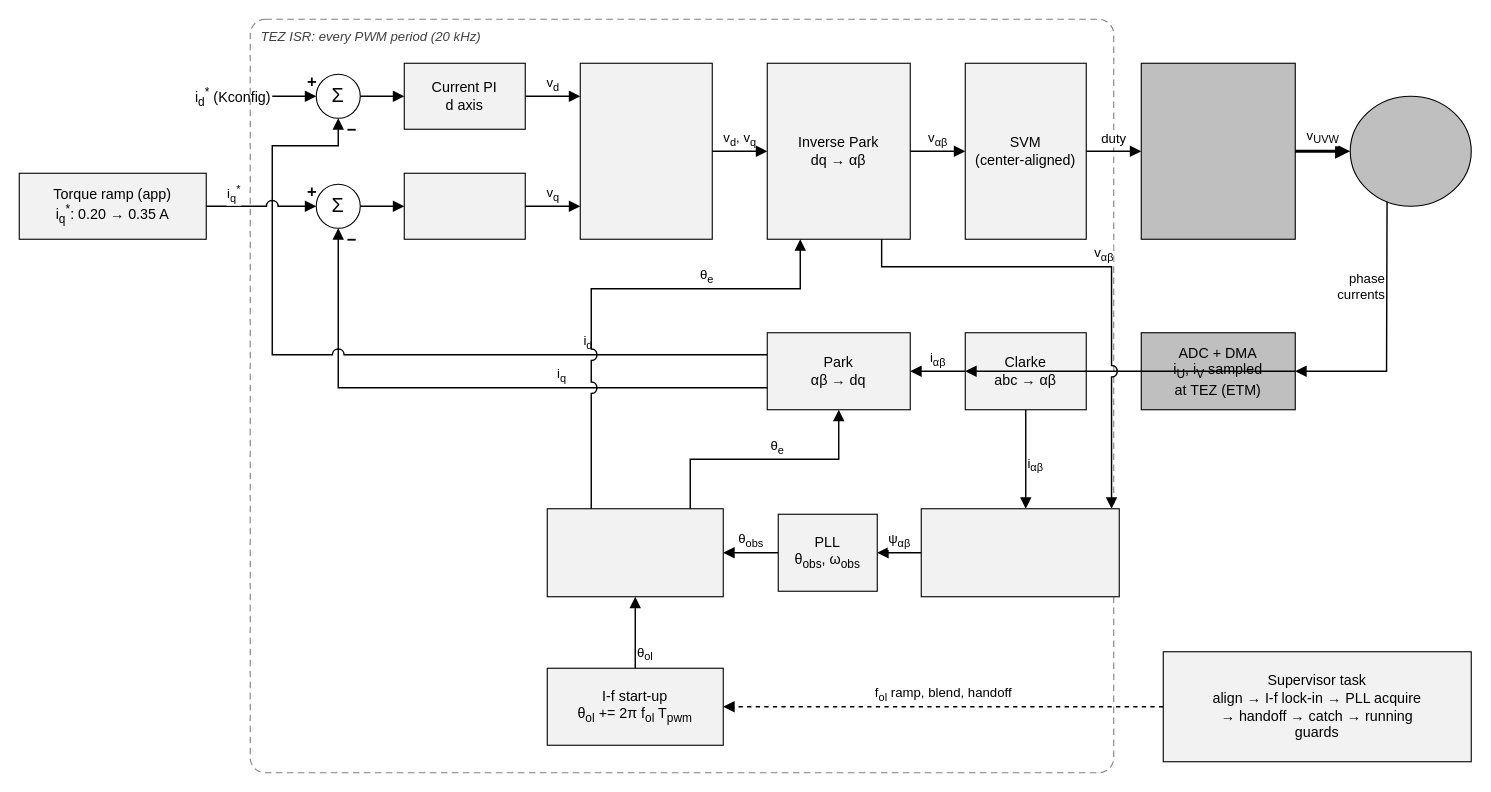
Some shapes in this 1491 by 792 pixel diagram are drawn without their labels. The centre of each missing label's shape, as x and y in pixels:
Angle select θ ol → blend → θ obs: the point at 634,552
Current PI q axis: the point at 464,205
Flux observer ψ s = ∫(v − R·i) dt − L·i: the point at 1019,552
MCPWM + inverter 6 PWM, dead time: the point at 1217,150
PMSM: the point at 1410,150
Voltage limit |v dq | ≤ V dc /√3: the point at 645,150
